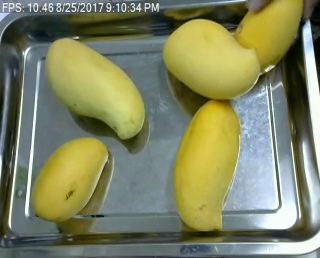Mango: (46, 36, 147, 139), (173, 97, 242, 235), (161, 18, 262, 96), (29, 135, 109, 223), (231, 0, 304, 78)
